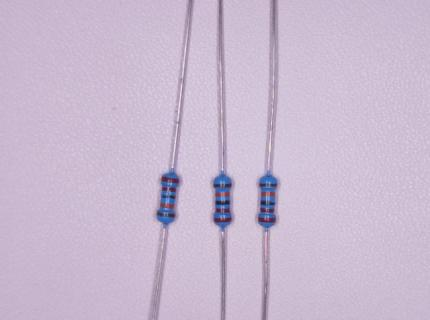Black band: (216, 200, 230, 205), (161, 195, 176, 199), (261, 201, 275, 205)
Brown band: (158, 211, 175, 218), (260, 183, 278, 187), (214, 184, 231, 187)
Orange band: (160, 203, 173, 209), (261, 192, 276, 196), (216, 193, 229, 196)
Red band: (162, 176, 179, 183), (214, 218, 232, 222), (162, 187, 176, 192), (259, 218, 276, 222), (260, 208, 274, 212), (216, 209, 230, 212)
